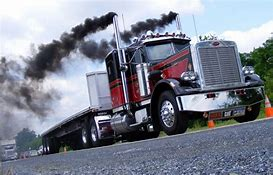smoke: (46, 10, 117, 44), (122, 9, 175, 33)
